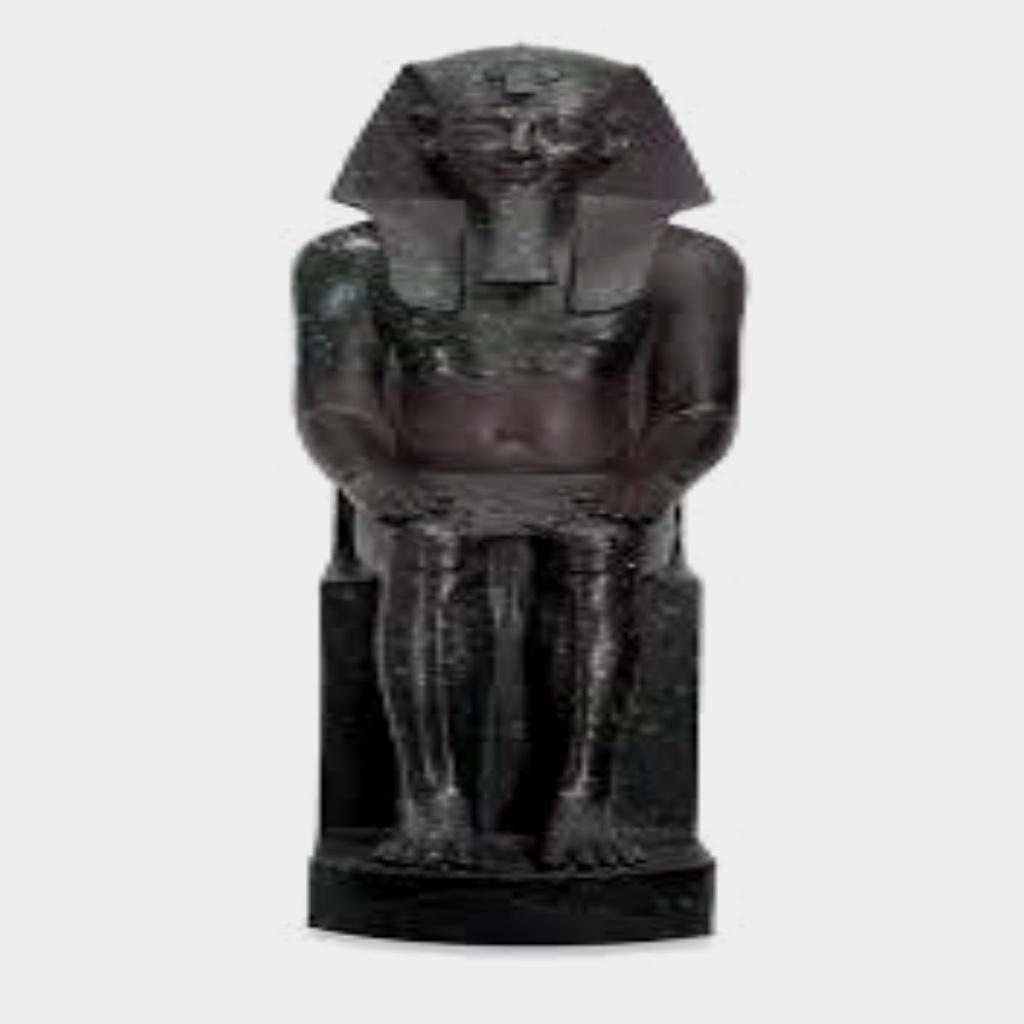Amenhotep III: (284, 46, 748, 946)
